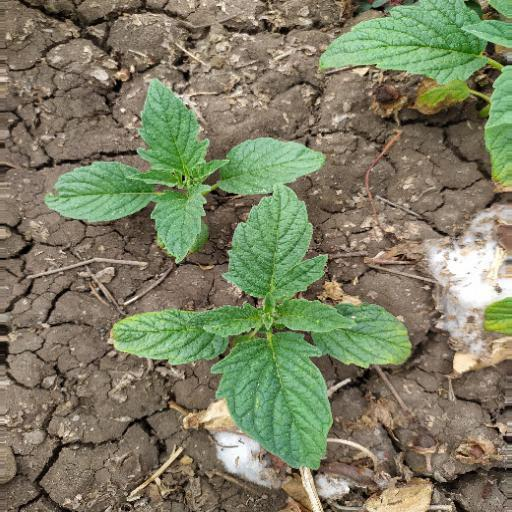crop: (109, 185, 417, 465), (46, 60, 327, 258)
